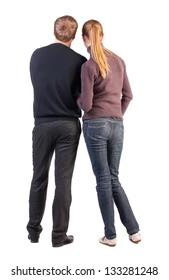sweater: (28, 43, 87, 123), (77, 45, 134, 120)
trousers: (83, 116, 141, 240), (26, 118, 81, 242)
